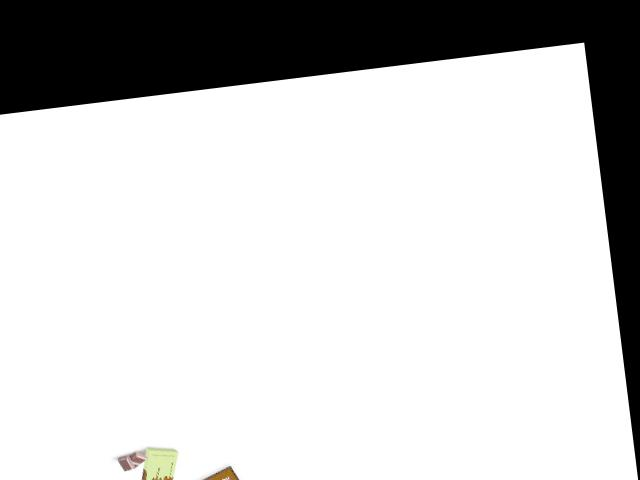chocolate: (134, 442, 181, 480)
